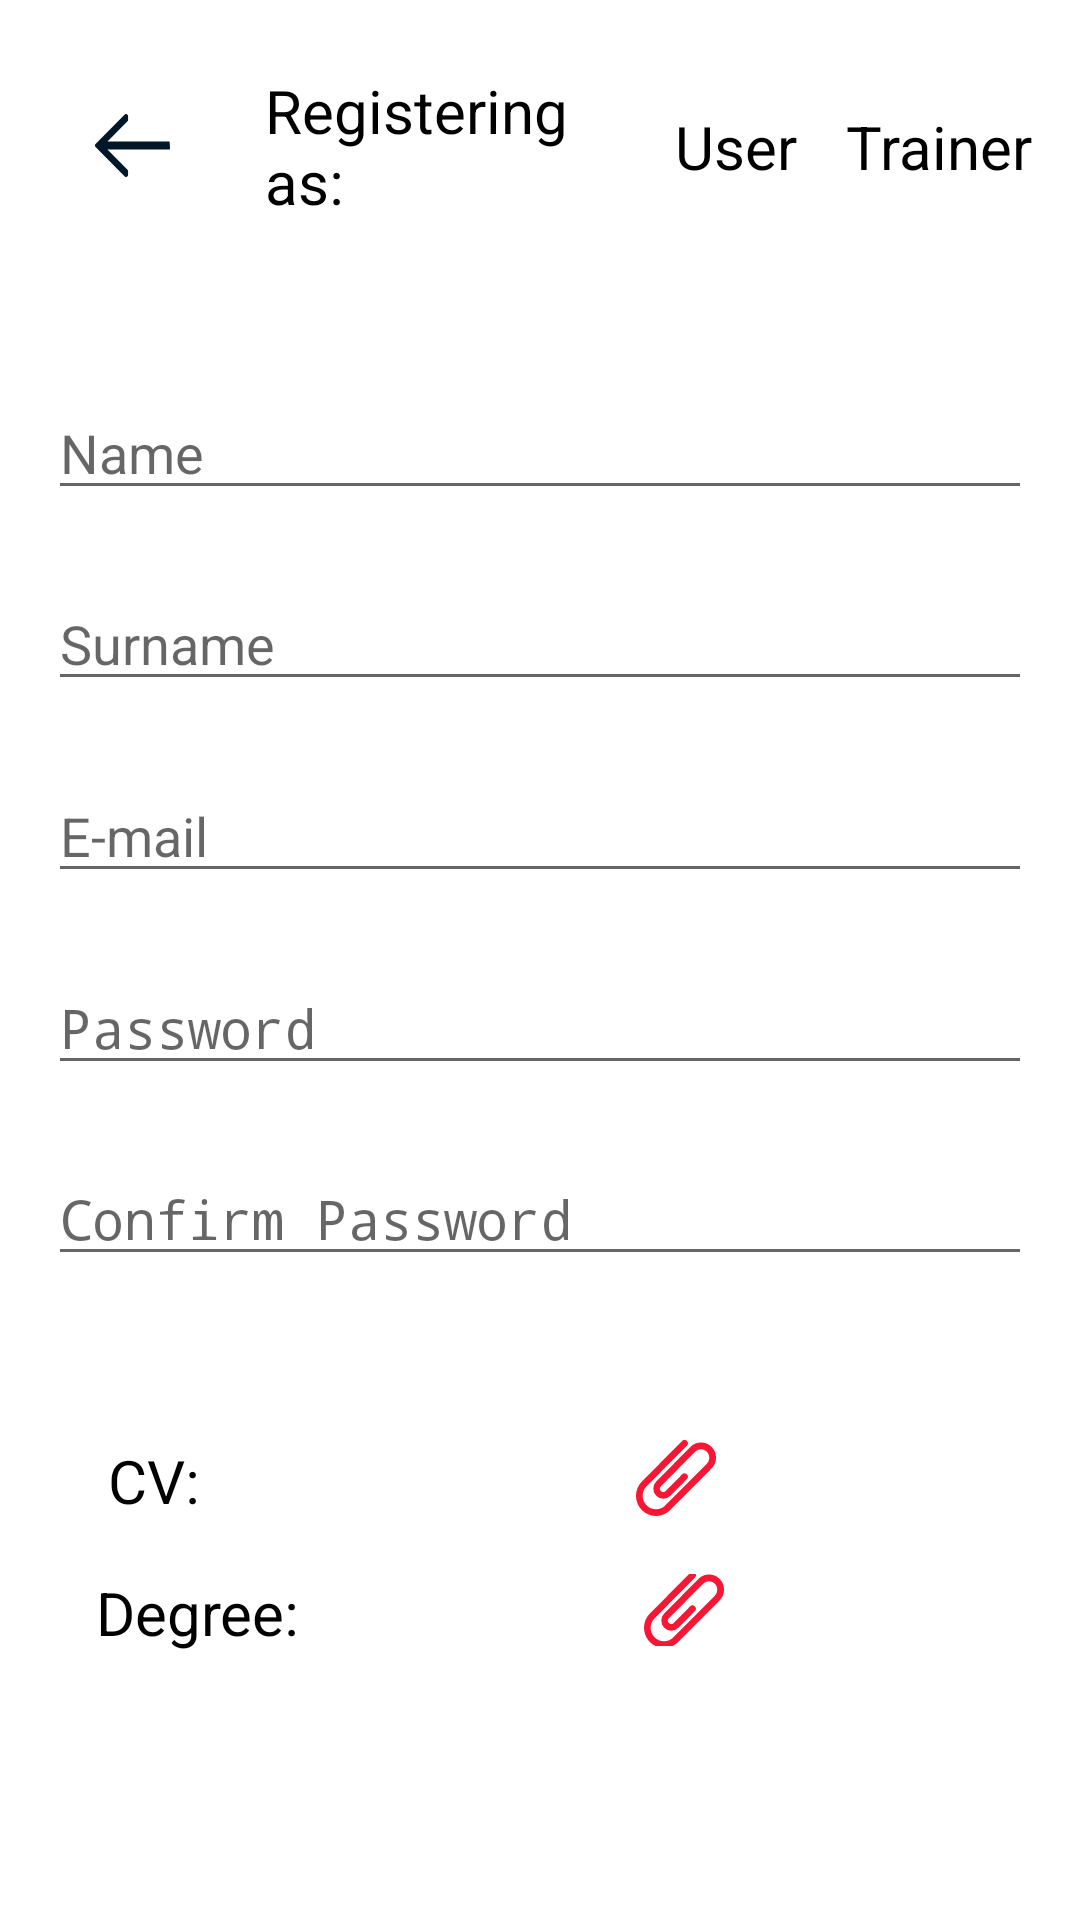

Icon bounding boxes for this 1080x1920 phone screenshot, format [x1,y1,x2,y2]:
left arrow: [95,114,170,177]
paperclip: [636,1440,716,1516], [644,1574,724,1646]
